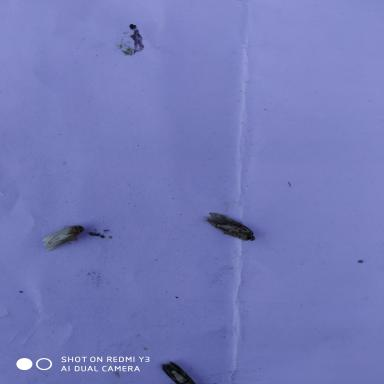pbw: (202, 209, 261, 247), (32, 221, 91, 256), (154, 360, 200, 382)
